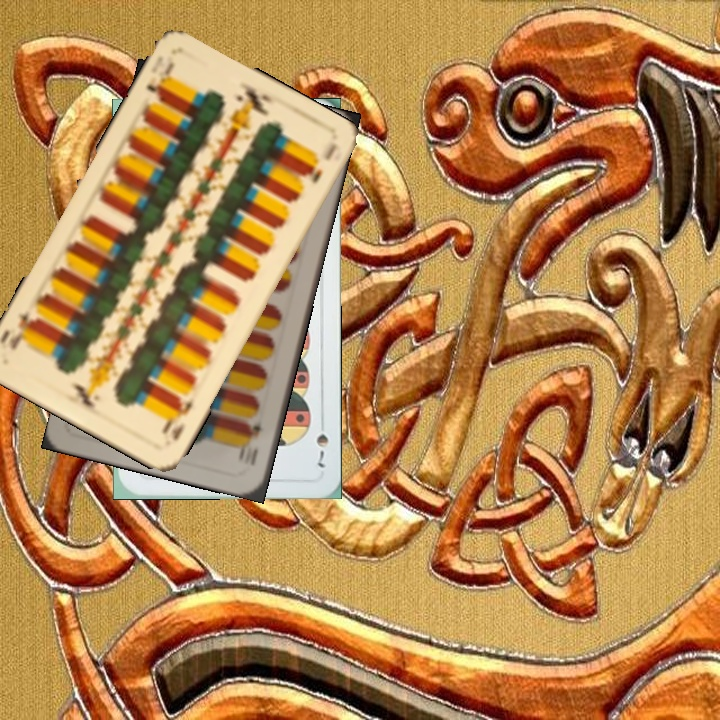E10: (158, 394, 197, 444), (142, 58, 177, 104), (237, 421, 264, 468)
S7: (312, 413, 331, 470)
